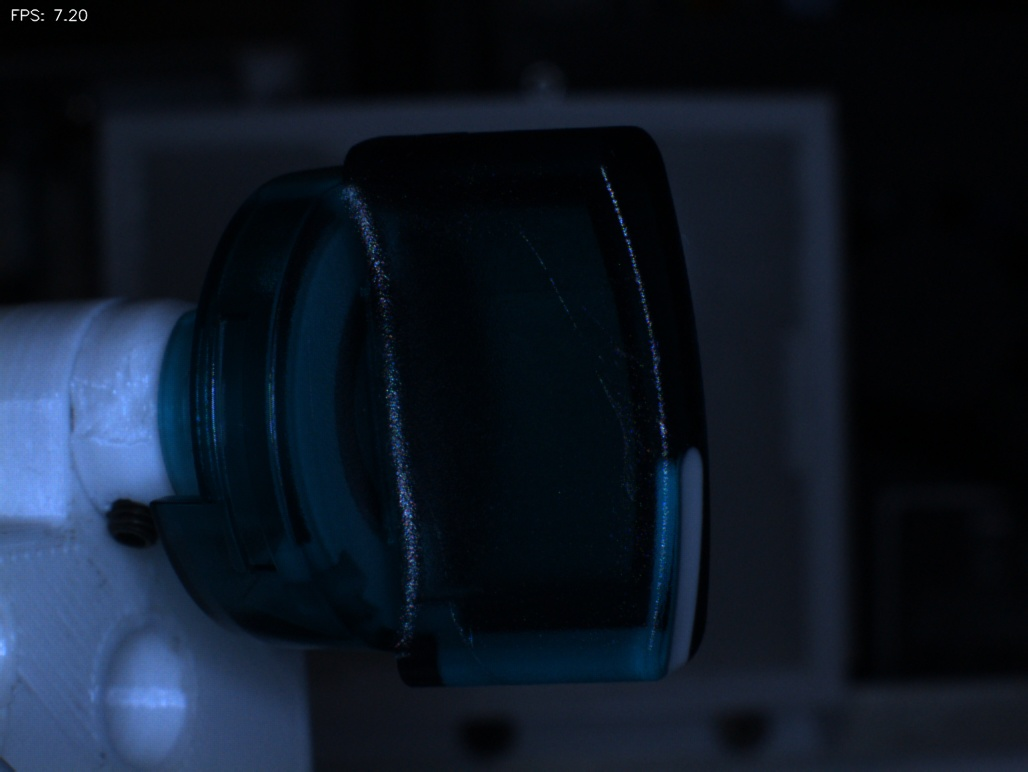Givrage: (586, 371, 663, 512), (521, 223, 585, 359)
